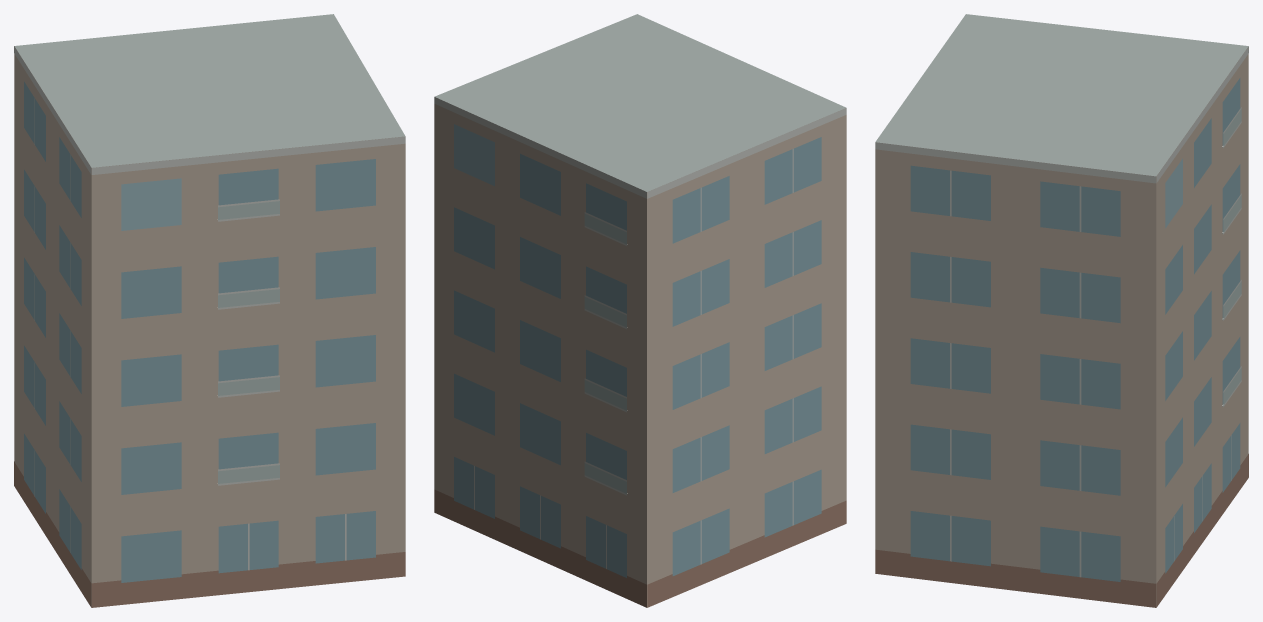
Rendered from survey-upis-33028801.glb.
3 renders of one model, left to right at view 1: azimuth 30°, elevation 25°; view 2: azimuth 150°, elevation 25°; view 3: azimuth 270°, elevation 25°, orthographic. The views are drawn at different scales.
Parts seen in each view (by area): view 1: survey-upis-33028801.tmp; view 2: survey-upis-33028801.tmp; view 3: survey-upis-33028801.tmp.
Part boxes in pixels (box(x1,y1,x2,y2)): survey-upis-33028801.tmp: box(14, 14, 405, 607); survey-upis-33028801.tmp: box(434, 14, 846, 607); survey-upis-33028801.tmp: box(875, 14, 1248, 607).
Bounding box in the file's own units: 11.91 × 14.75 × 11.58.
